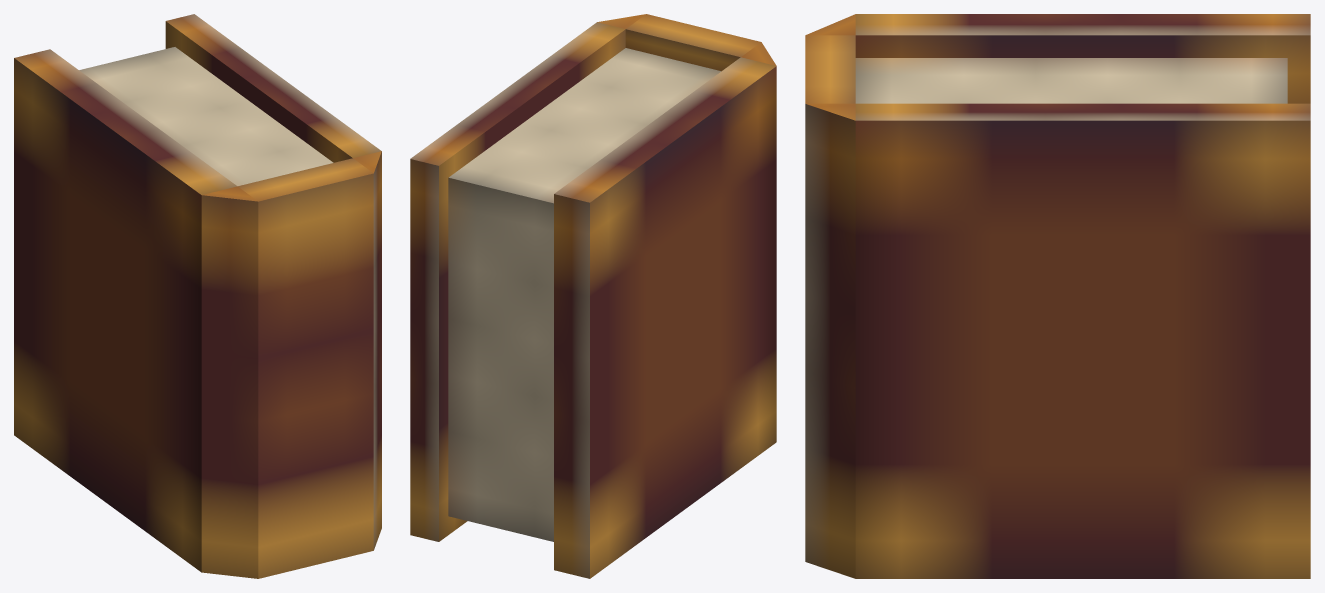
Rendered from BookClosed.fbx.
The picture shows the model from 3 angles, left to right: view 1: azimuth 30°, elevation 25°; view 2: azimuth 150°, elevation 25°; view 3: azimuth 270°, elevation 25°; orthographic projection. The views are drawn at different scales.
Visible parts, largest first — view 1: Book; view 2: Book; view 3: Book.
Boxes of the visible parts, left/top/right/bottom form: Book: left=14, top=14, right=381, bottom=578; Book: left=410, top=14, right=776, bottom=578; Book: left=805, top=14, right=1310, bottom=578.
Bounding box in the file's own units: 0.1875 × 0.375 × 0.375.
